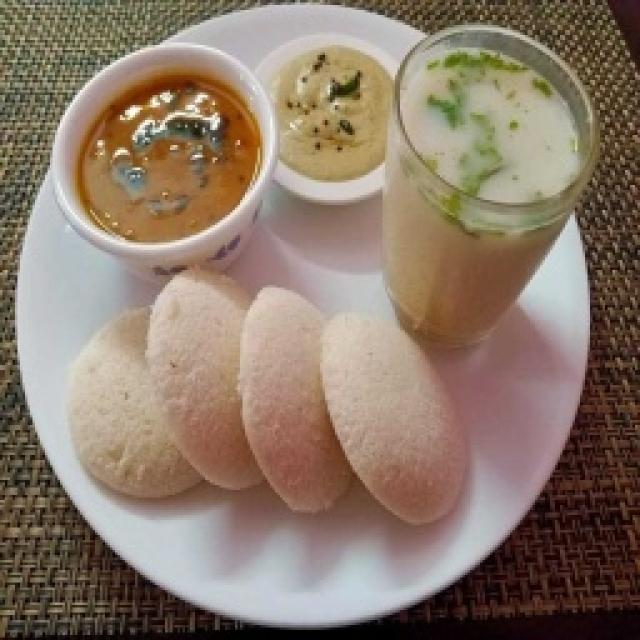idli: (72, 296, 454, 530)
